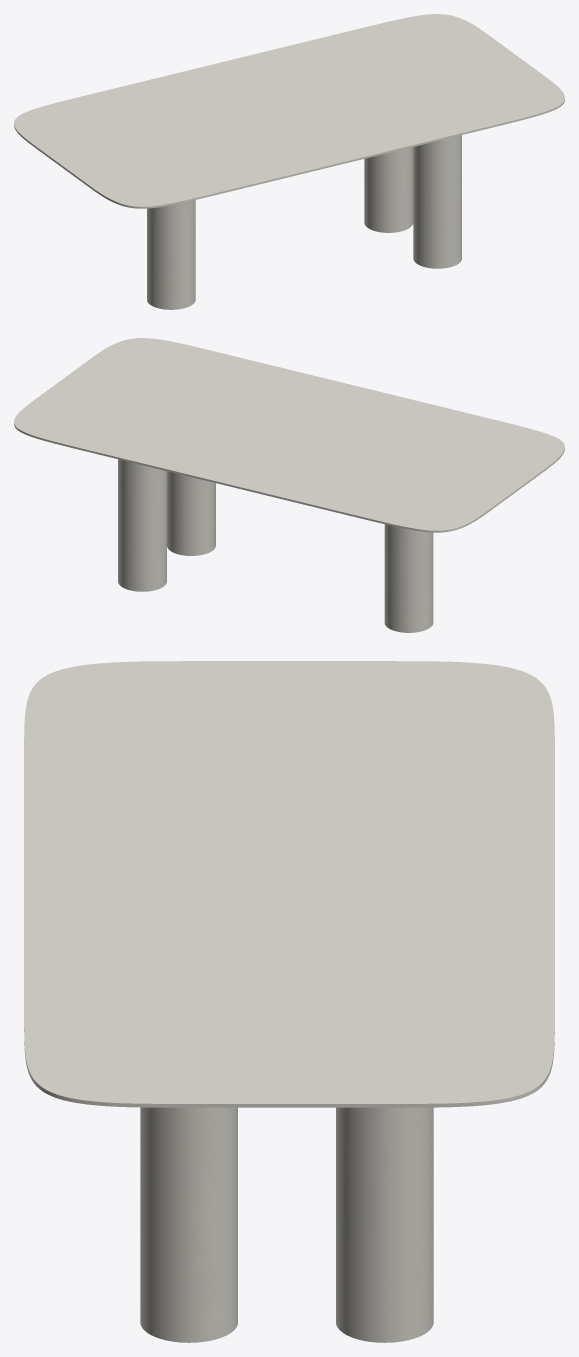
File: pale_softrecta_facet_cylinder.glb
3 views of the same model, one above another, from view 1: azimuth 30°, elevation 25°; view 2: azimuth 150°, elevation 25°; view 3: azimuth 270°, elevation 25° (orthographic). The views are drawn at different scales.
Visible parts, largest first — view 1: facet_softrecta, cylinder; view 2: facet_softrecta, cylinder; view 3: facet_softrecta, cylinder.
Part boxes in pixels (x1,y1,x2,y2): facet_softrecta: (14, 14, 564, 208); cylinder: (147, 135, 461, 309); facet_softrecta: (14, 338, 564, 532); cylinder: (118, 459, 433, 632); facet_softrecta: (24, 661, 554, 1107); cylinder: (140, 1107, 433, 1342).
Bounding box in the file's own units: 7.5 × 2.52 × 3.8.
1 material, 1 textured.
